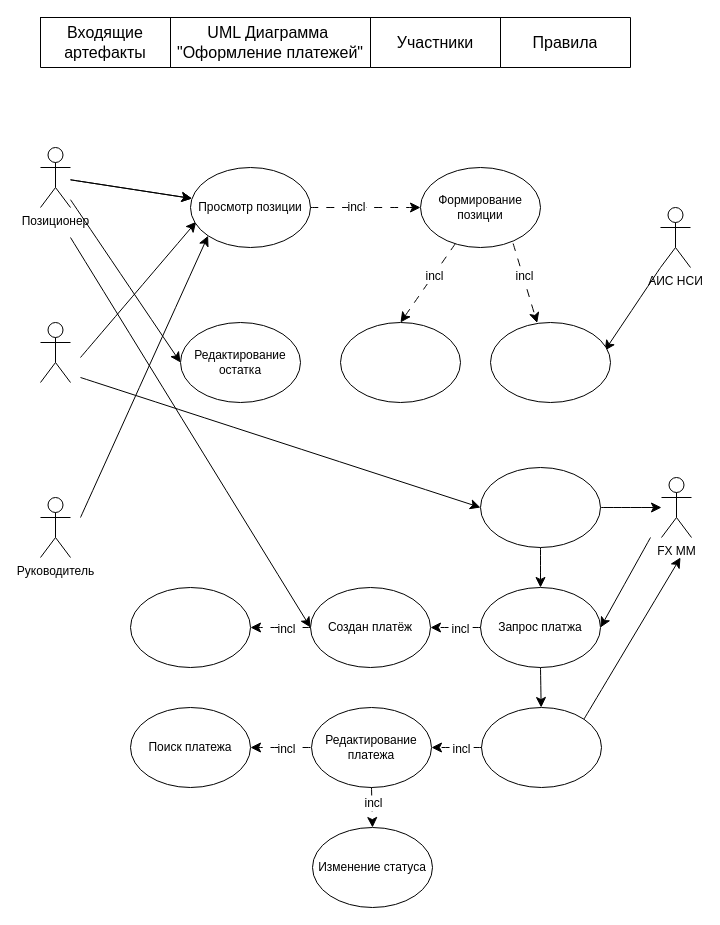
Image size: 720x925. Some labels were removed from this diagram. Here are the shapes that lost their labels. From the top down, the centre of each, then its label:
At point 55,352: "Дилер".
At point 400,362: "Выбор платежа".
At point 550,362: "Запрос НСИ".
At point 540,507: "Отправка платежа".
At point 190,627: "Просмотр платежа".
At point 541,747: "Получен платеж".
